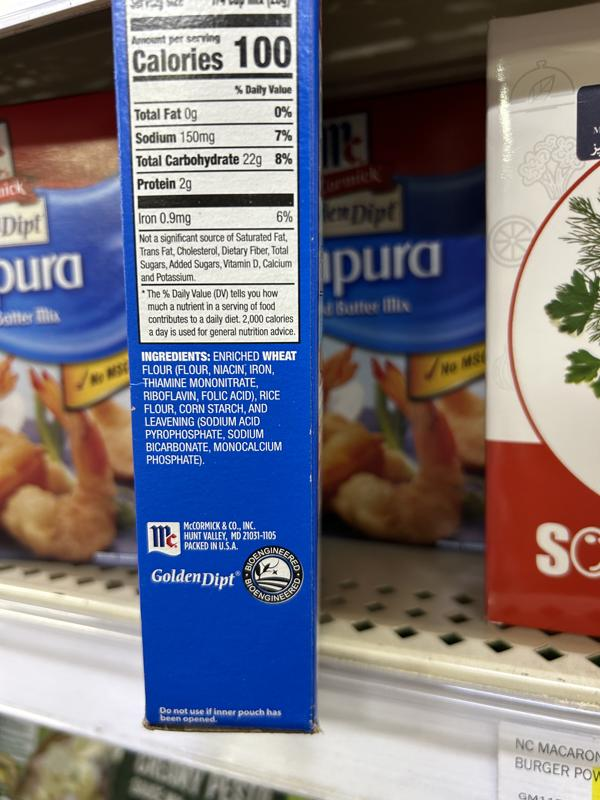ingredients: (138, 347, 300, 468)
